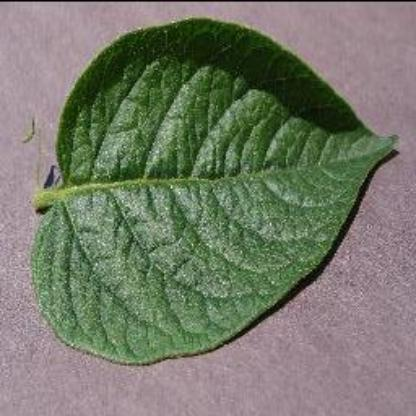Healthy-plant: (25, 15, 407, 378)
